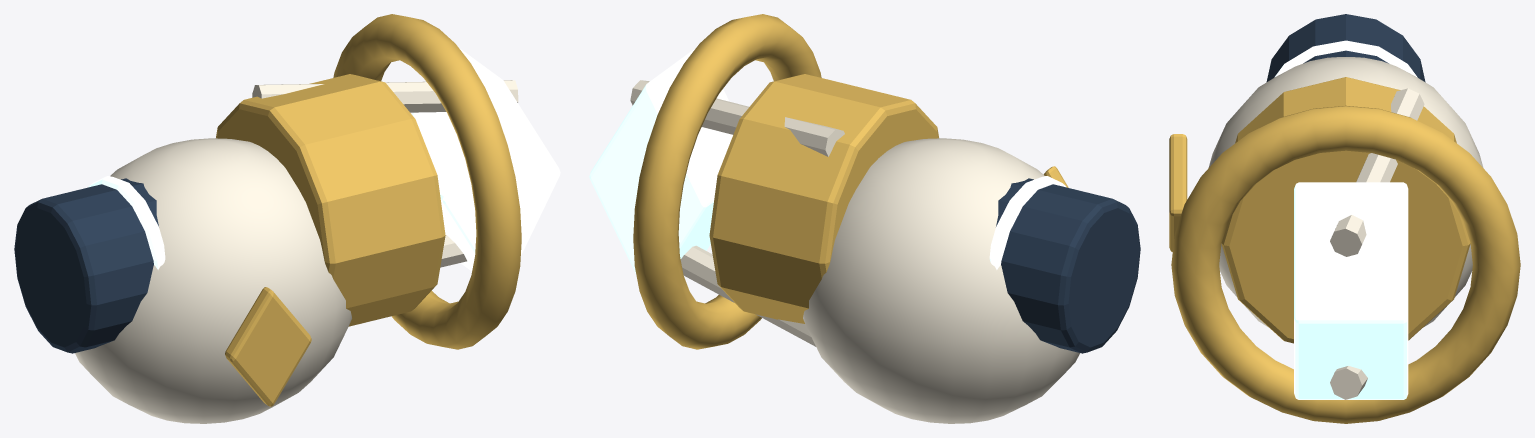
File: prism_emitter.glb
The picture shows the model from 3 angles, left to right: view 1: azimuth 30°, elevation 25°; view 2: azimuth 150°, elevation 25°; view 3: azimuth 270°, elevation 25°; orthographic projection.
Visible parts, largest first — view 1: ModuleArmor; view 2: ModuleArmor; view 3: ModuleArmor.
Boxes of the visible parts, x1,y1,x2,y2 form: ModuleArmor: (14,14,560,423); ModuleArmor: (589,14,1140,423); ModuleArmor: (1169,14,1520,423).
Bounding box in the file's own units: 1.1 × 0.716 × 0.676.
